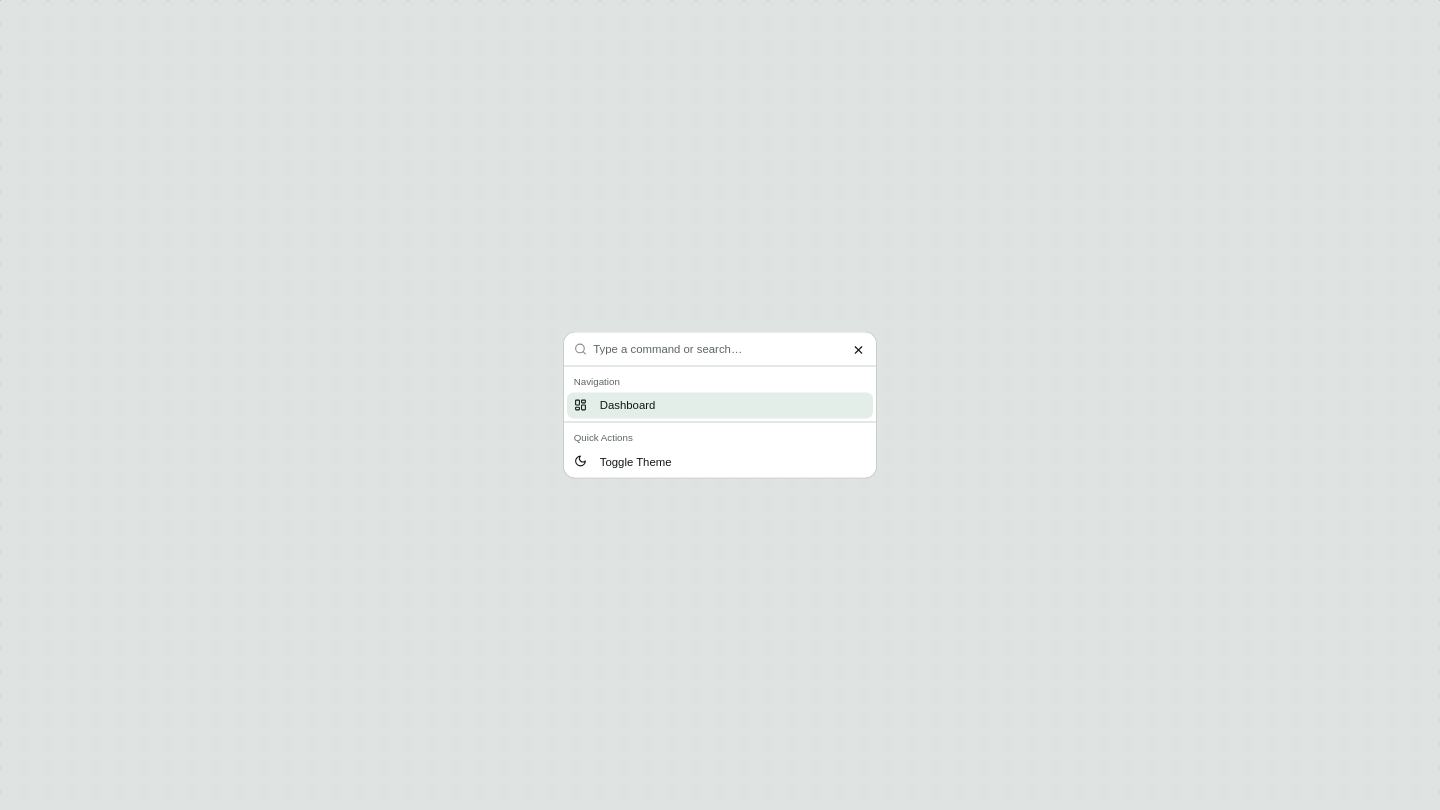
Test: CommandPalette › shows "No results found." when all groups are empty
Type "zzz" into the dropdown at (730, 349), box [593,332,866,365]
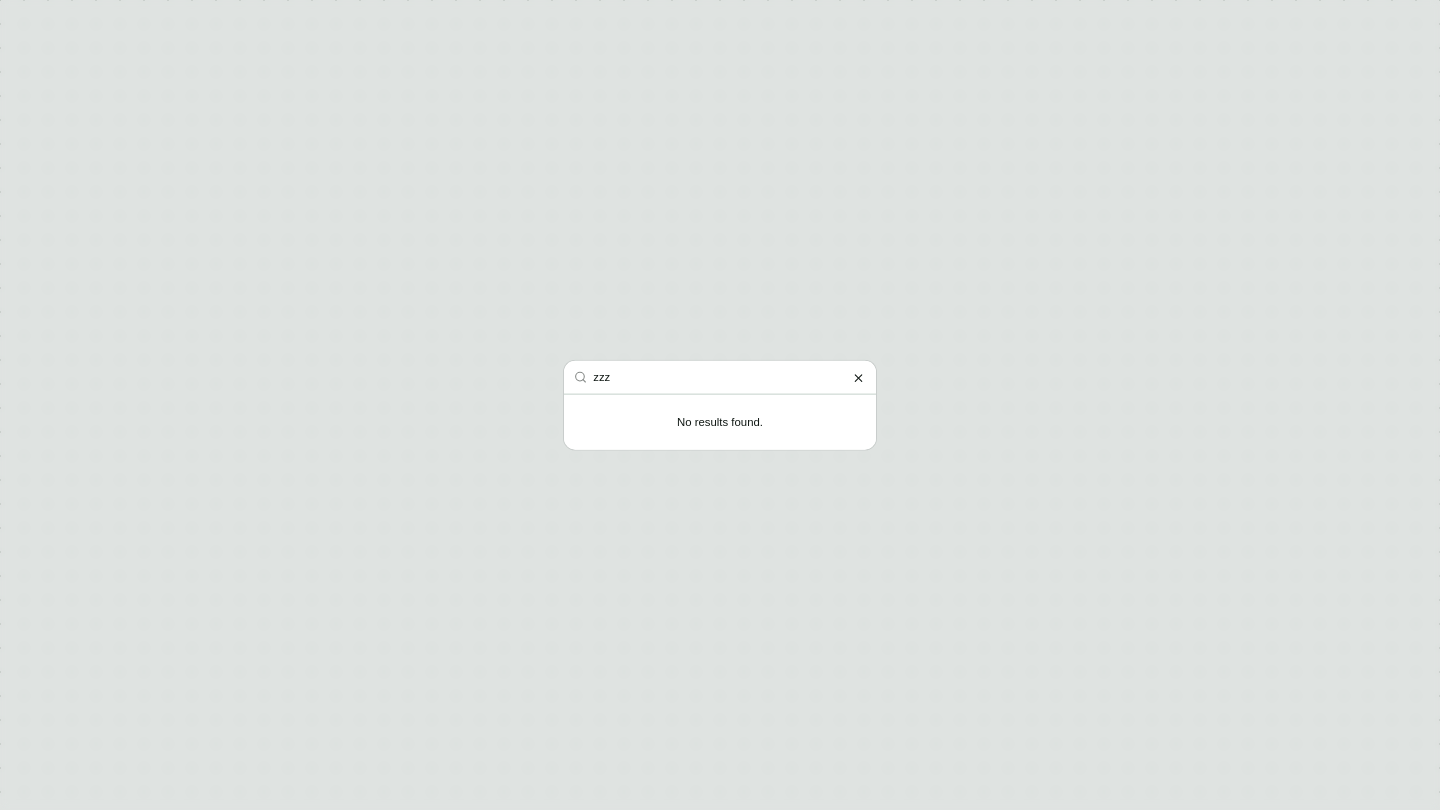
expect the text "No results found." is shown: met, box [677,416,763,428]
